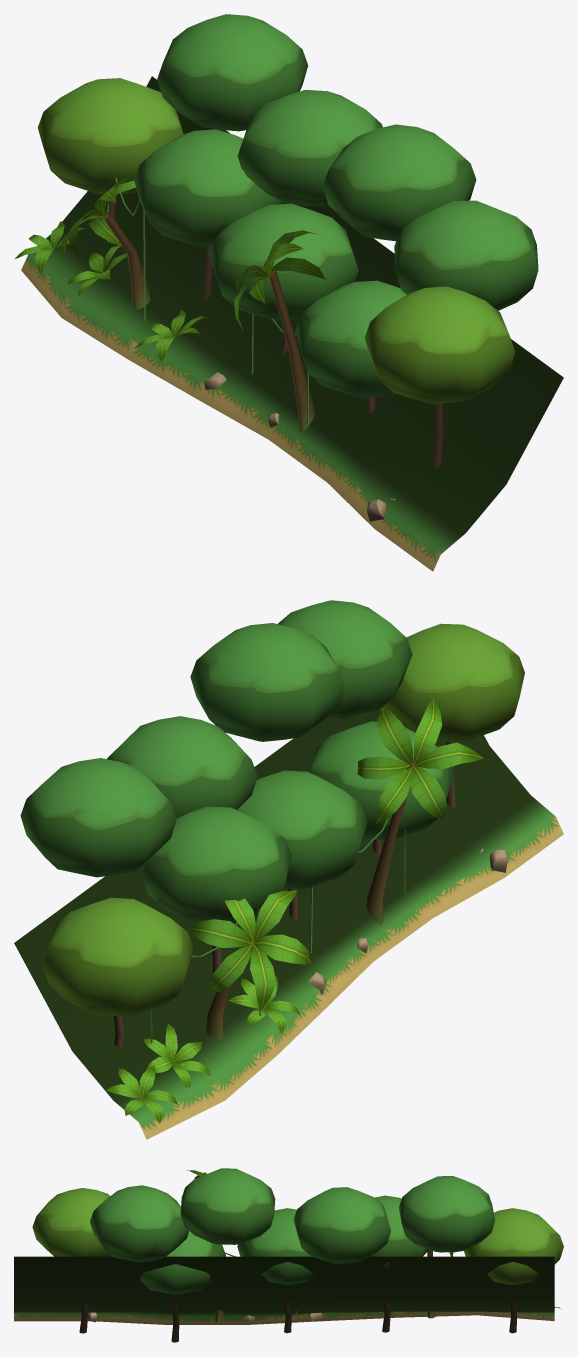
The model's file is jungle pattern1.fbx.
The picture shows the model from 3 angles, top to bottom: view 1: azimuth 30°, elevation 25°; view 2: azimuth 150°, elevation 25°; view 3: azimuth 270°, elevation 25°; orthographic projection. The views are drawn at different scales.
Visible parts, largest first — view 1: trees1, ground, trees2, palm, rocks; view 2: trees1, ground, trees2, palm, rocks; view 3: ground, trees1, trees2, palm, rocks.
Boxes of the visible parts, box(x1,y1,x2,y2) form: trees1: box(134, 14, 538, 412); ground: box(21, 76, 563, 571); trees2: box(37, 78, 515, 468); palm: box(15, 177, 325, 432); rocks: box(204, 372, 395, 521); trees1: box(20, 600, 454, 973); ground: box(14, 709, 563, 1139); trees2: box(42, 623, 524, 1049); palm: box(106, 698, 483, 1123); rocks: box(308, 848, 507, 994); ground: box(14, 1252, 554, 1324); trees1: box(90, 1168, 495, 1342); trees2: box(32, 1188, 563, 1333); palm: box(187, 1170, 561, 1322); rocks: box(88, 1312, 323, 1322).
Bounding box in the file's own units: 274 × 298 × 783.
